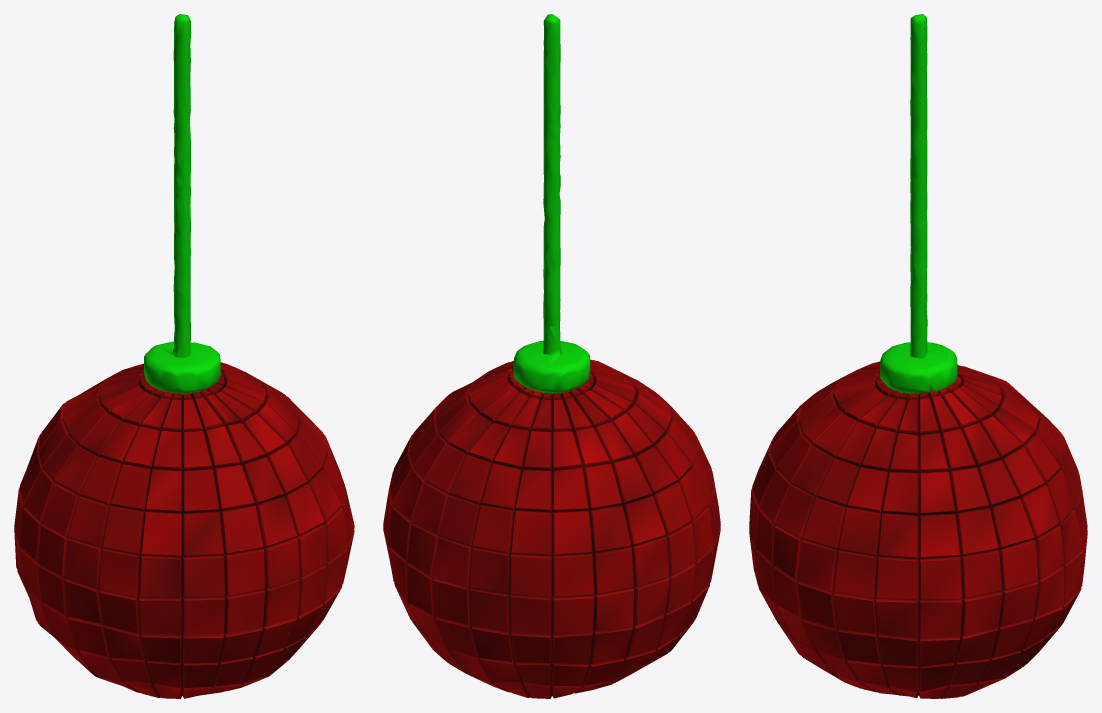
Rendered from DiscoBall.fbx.
3 views of the same model, side by side, from view 1: azimuth 30°, elevation 25°; view 2: azimuth 150°, elevation 25°; view 3: azimuth 270°, elevation 25° (orthographic).
Parts seen in each view (by area): view 1: DiscoBall; view 2: DiscoBall; view 3: DiscoBall.
Part boxes in pixels (bbox=[...]): DiscoBall: bbox=[14, 14, 354, 698]; DiscoBall: bbox=[383, 14, 720, 698]; DiscoBall: bbox=[749, 14, 1087, 698].
Bounding box in the file's own units: 2.01 × 4.39 × 2.02.
